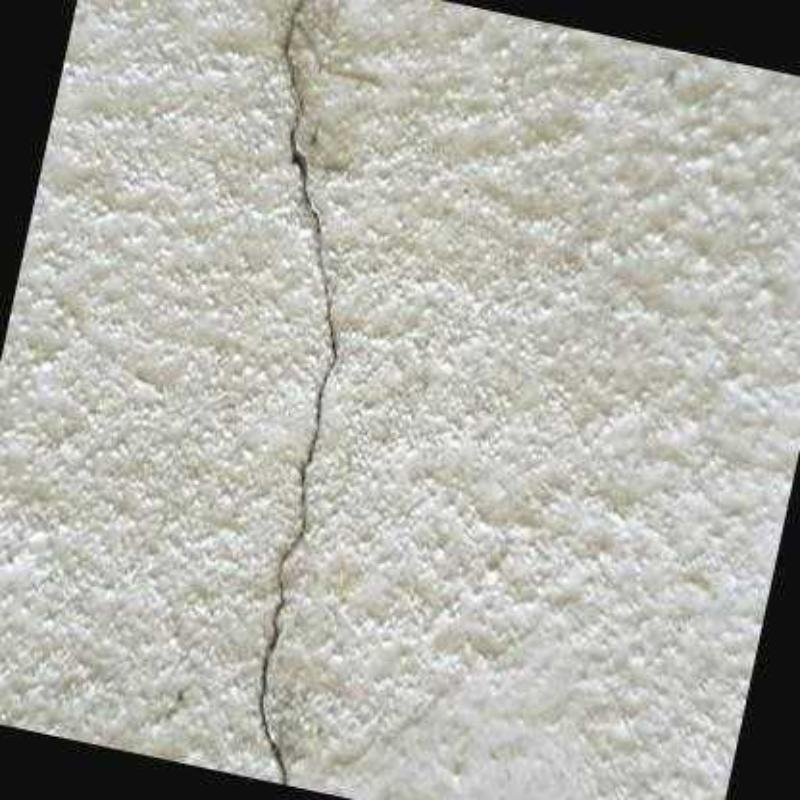pothole: (258, 2, 337, 786)
